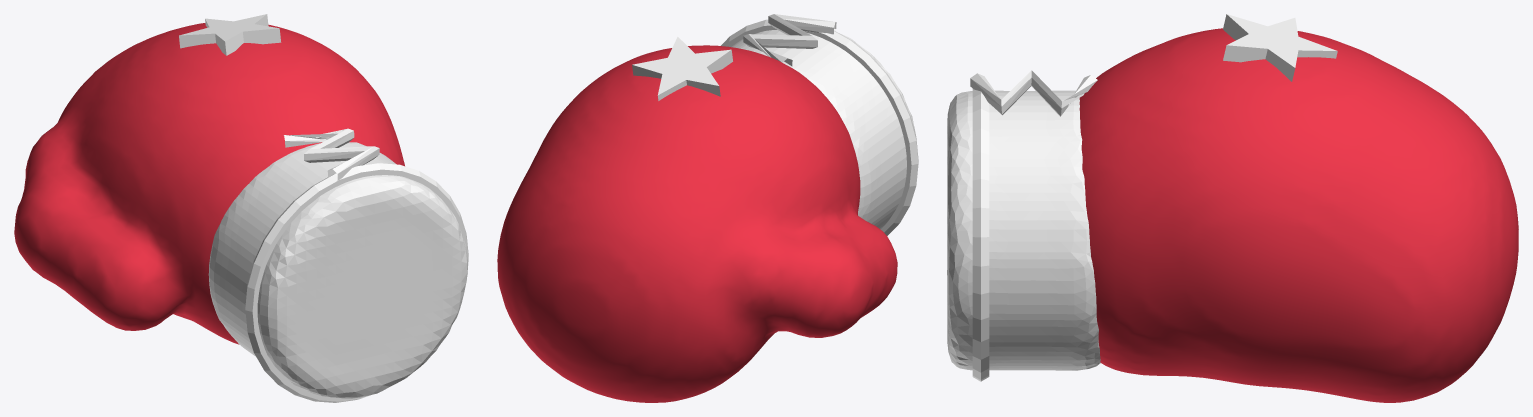
File: YeetGlove.obj
3 views of the same model, side by side, from view 1: azimuth 30°, elevation 25°; view 2: azimuth 150°, elevation 25°; view 3: azimuth 270°, elevation 25° (orthographic). The views are drawn at different scales.
Parts seen in each view (by area): view 1: Glove, Cuff; view 2: Glove, Cuff; view 3: Glove, Cuff.
Part boxes in pixels (x1,y1,x2,y2): Glove: (14, 23, 404, 344); Cuff: (179, 14, 468, 402); Glove: (497, 45, 897, 402); Cuff: (632, 14, 918, 235); Glove: (1079, 28, 1518, 402); Cuff: (947, 14, 1337, 381).
Size of the model in its own units: 2.58 by 2.23 by 3.27.
